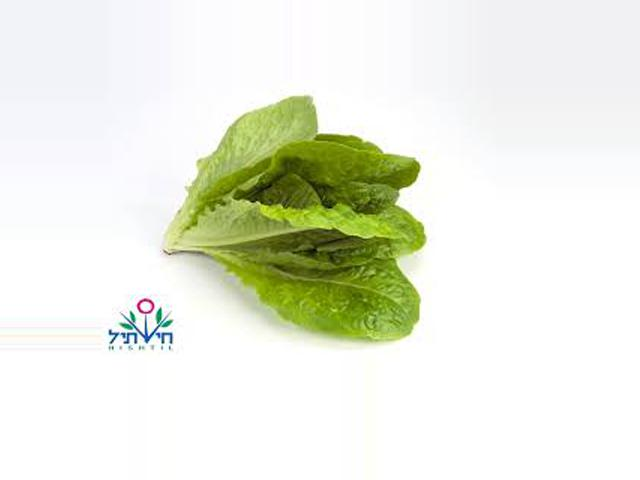lettuce: (160, 90, 433, 336)
